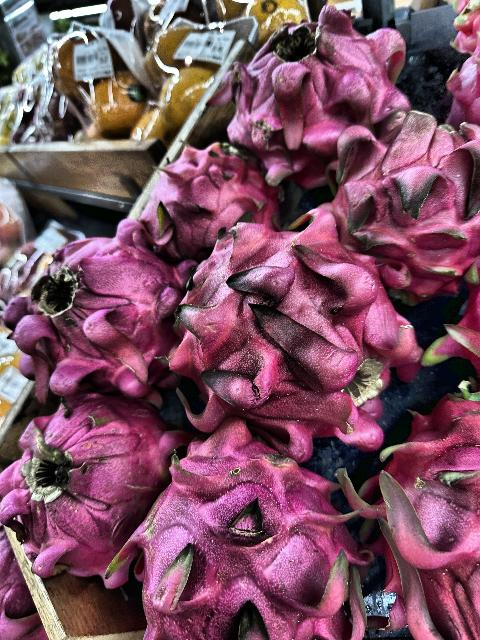buah-naga-matang: (103, 400, 382, 640), (175, 216, 415, 448), (354, 374, 480, 640), (224, 0, 410, 180), (3, 232, 192, 400), (0, 392, 174, 568), (326, 103, 480, 291), (129, 137, 275, 247)
